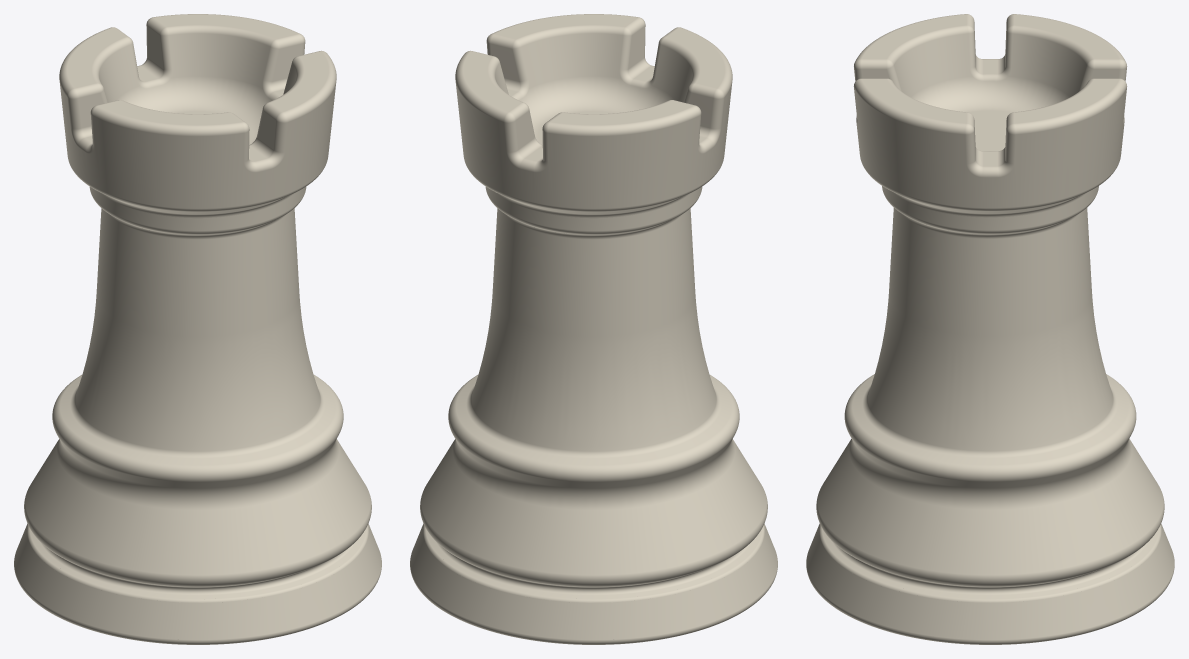
File: rook_small.glb
3 views of the same model, side by side, from view 1: azimuth 30°, elevation 25°; view 2: azimuth 150°, elevation 25°; view 3: azimuth 270°, elevation 25° (orthographic).
Parts seen in each view (by area): view 1: Object_2; view 2: Object_2; view 3: Object_2.
Boxes of the visible parts, box(x1,y1,x2,y2) form: Object_2: box(14, 14, 381, 644); Object_2: box(410, 14, 777, 644); Object_2: box(806, 14, 1174, 644).
Bounding box in the file's own units: 35.72 × 53.44 × 35.71.
